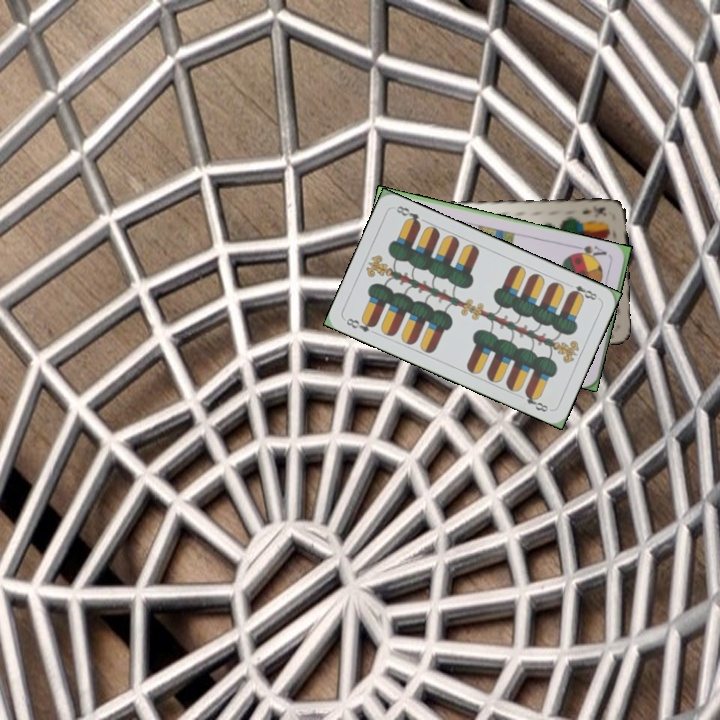E8: (564, 279, 601, 303), (342, 314, 379, 335)
EK: (578, 202, 609, 218)
SA: (571, 241, 609, 262)
